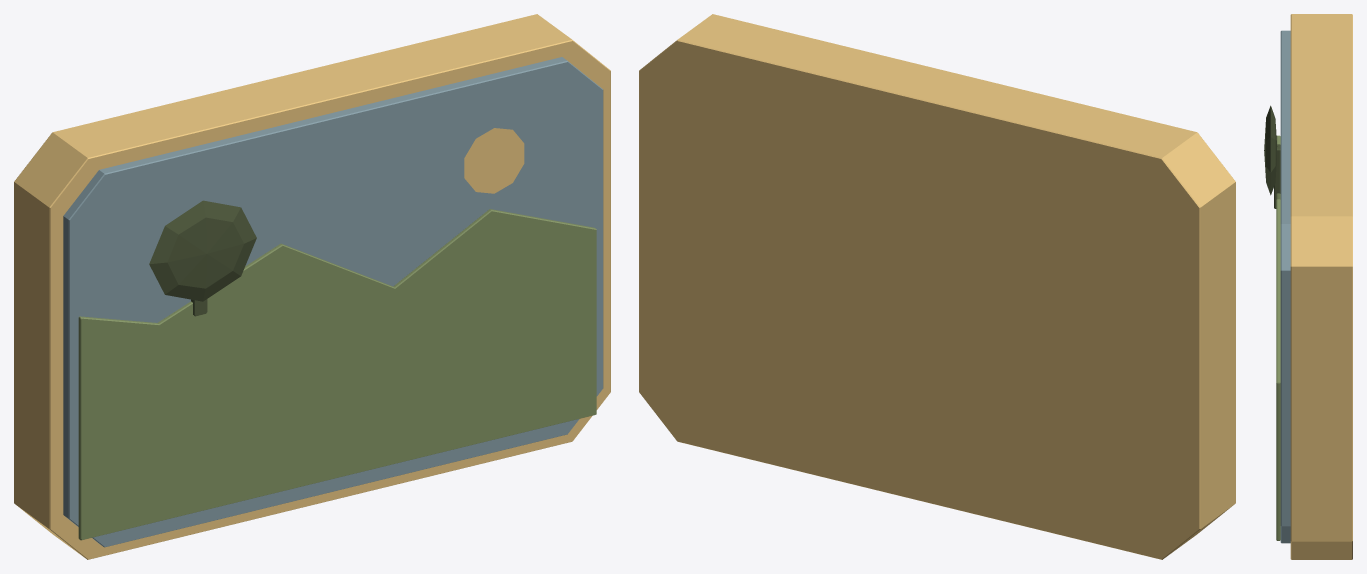
File: puzzle.glb
3 renders of one model, left to right at view 1: azimuth 30°, elevation 25°; view 2: azimuth 150°, elevation 25°; view 3: azimuth 270°, elevation 25°, orthographic. The views are drawn at different scales.
Visible parts, largest first — view 1: puzzle; view 2: puzzle; view 3: puzzle.
Part boxes in pixels (bbox=[...]): puzzle: bbox=[14, 14, 610, 559]; puzzle: bbox=[639, 14, 1235, 559]; puzzle: bbox=[1264, 14, 1352, 559].
Size of the model in its own units: 0.25 by 0.171 by 0.04.
